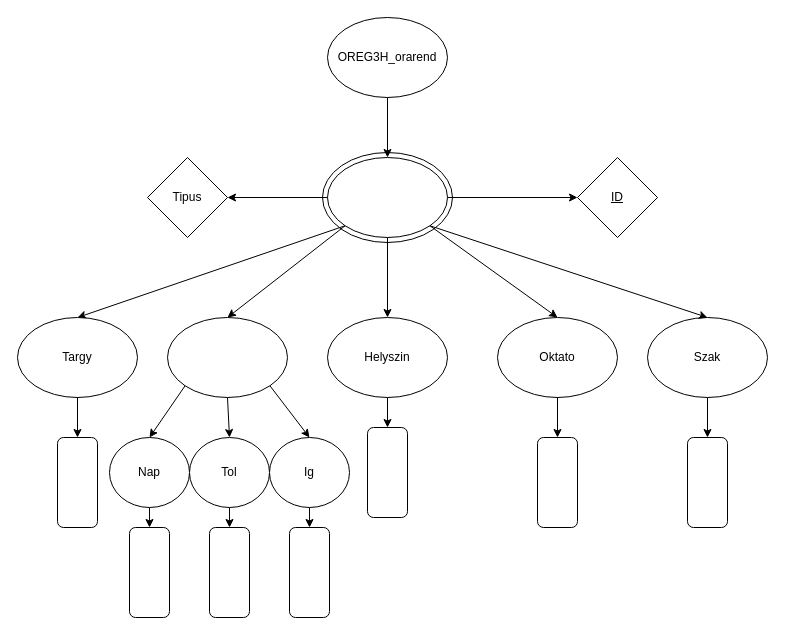
Image size: 785x635. Some labels were removed from this diagram. Each missing label, with the centre of its shape:
Idopont: [227,357]
Ora: [387,197]
